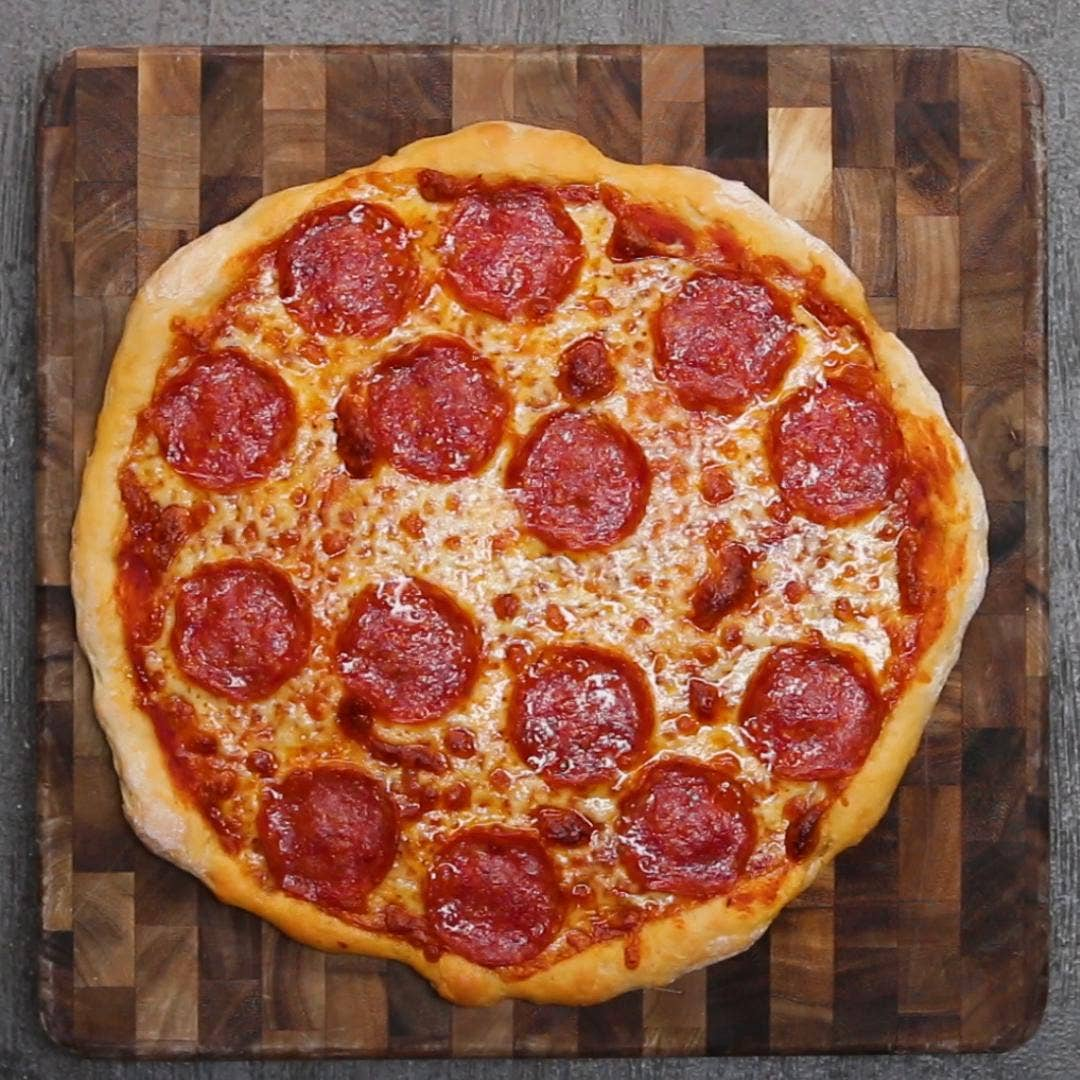pizza: (56, 101, 1036, 1024)
